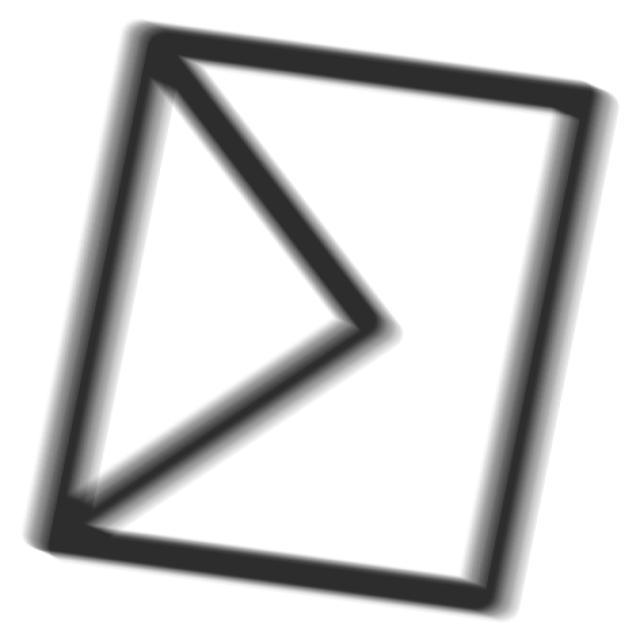letter: (16, 17, 620, 618)
